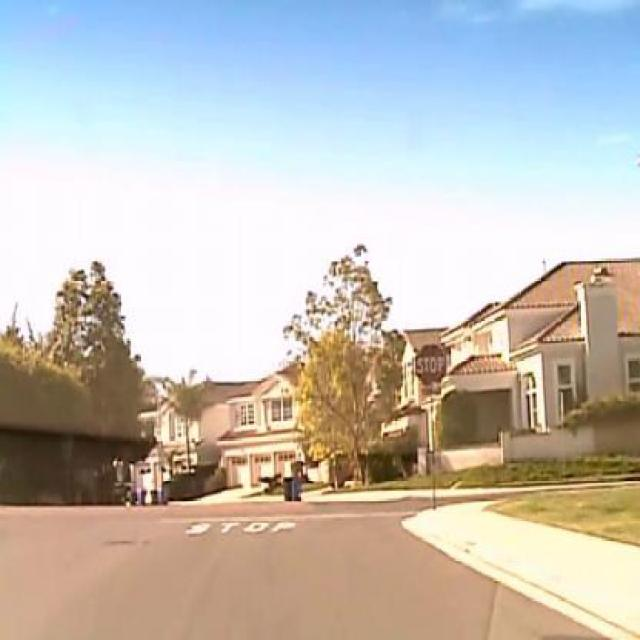stop: (416, 343, 447, 388)
